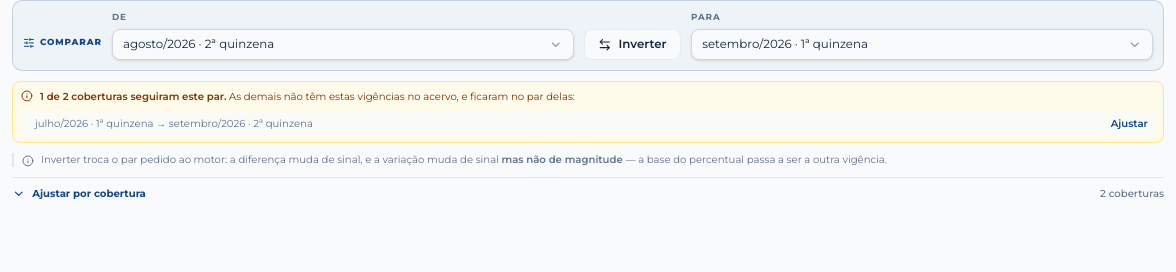
Test: a quantas coberturas o gesto chegou › o atalho da dissidente abre a gaveta
Step 1. Click the button "Ajustar" → (1129, 124), box [1111,117,1148,130]
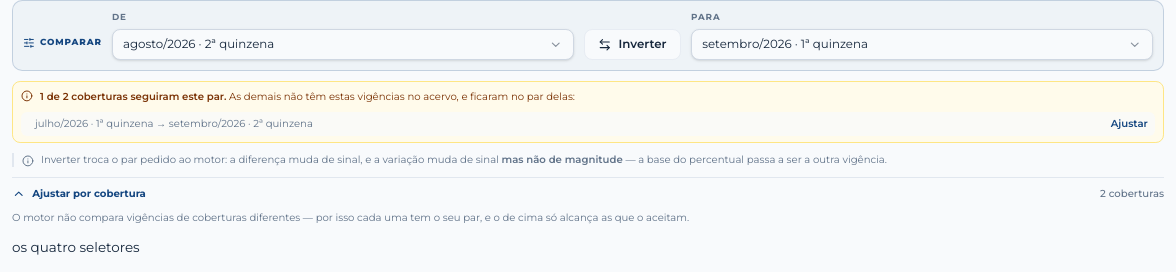
Now the text "os quatro seletores" is shown, box [12,239,140,255]
